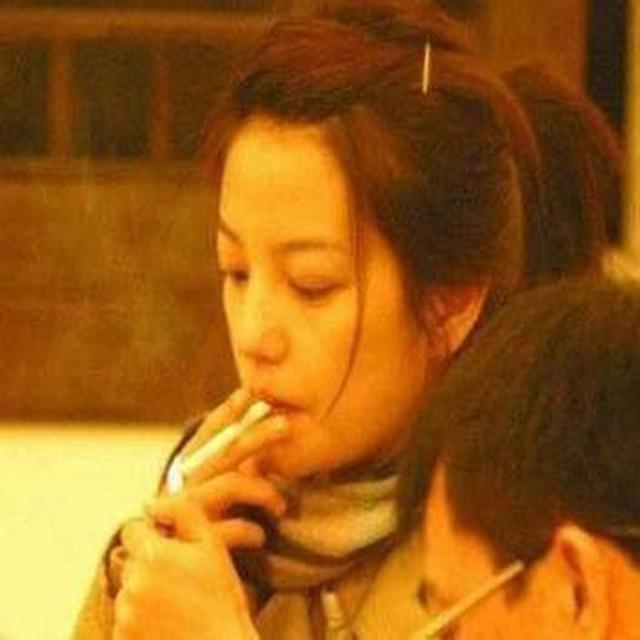smoking: (149, 55, 548, 531)
